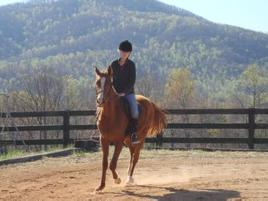person: (92, 40, 142, 146)
